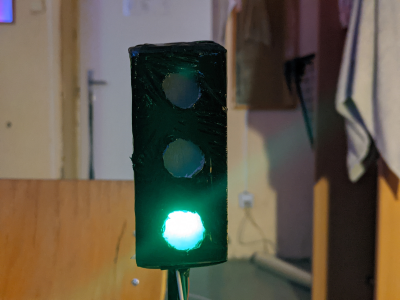trafficlight_green: (133, 50, 228, 262)
